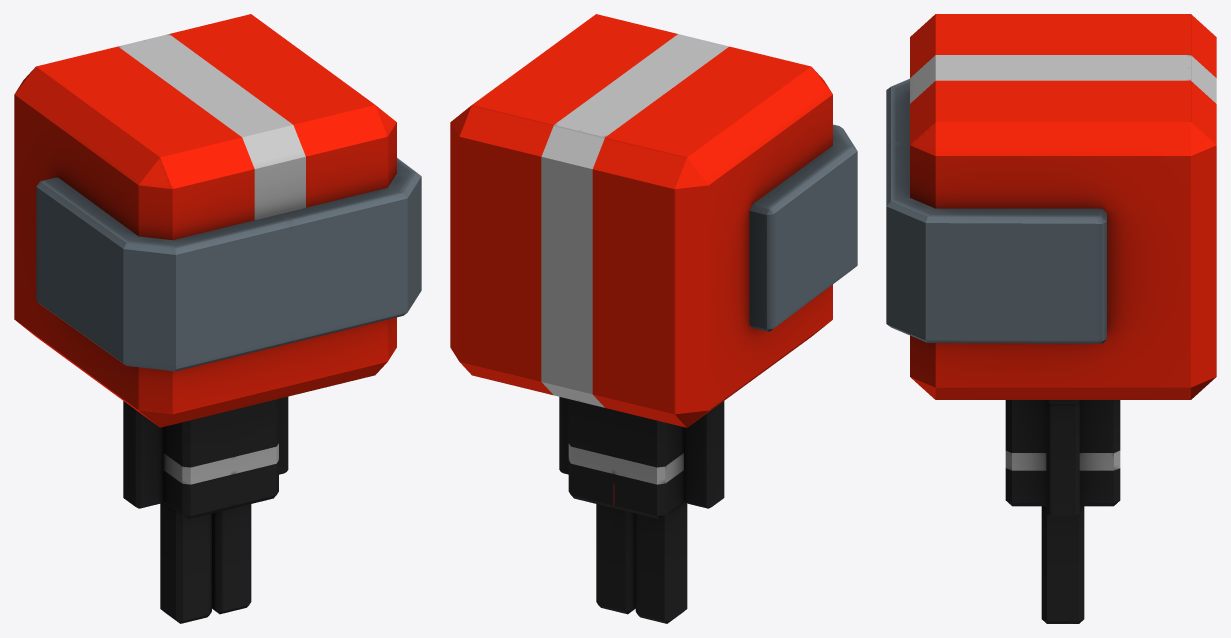
Rendered from HelmetBoy.FBX.
The picture shows the model from 3 angles, left to right: view 1: azimuth 30°, elevation 25°; view 2: azimuth 150°, elevation 25°; view 3: azimuth 270°, elevation 25°; orthographic projection. The views are drawn at different scales.
Visible parts, largest first — view 1: FiberMan; view 2: FiberMan; view 3: FiberMan.
Boxes of the visible parts, x1,y1,x2,y2 form: FiberMan: (14,14,421,623); FiberMan: (450,14,857,623); FiberMan: (886,14,1216,623).
Size of the model in its own units: 8.59 by 14.28 by 7.93.
1 material, 1 textured.
